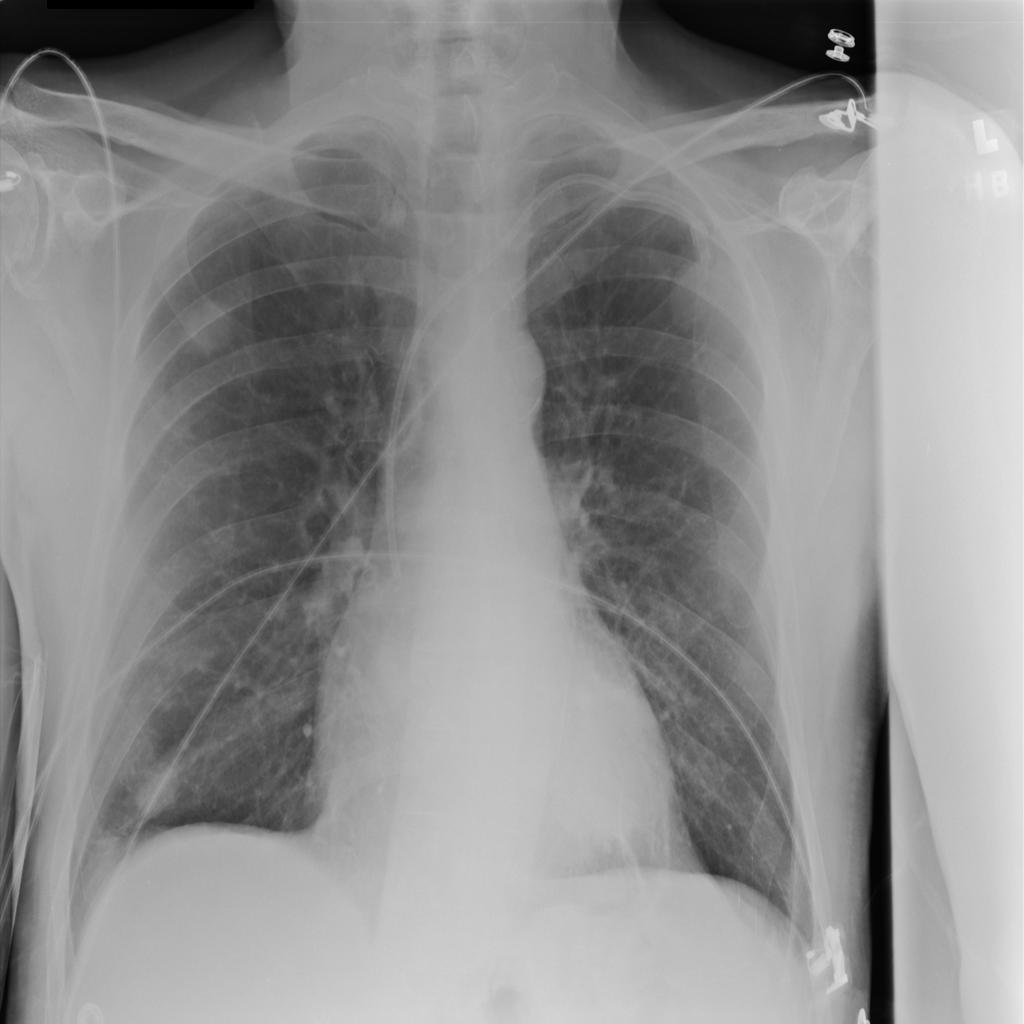nodule: (169, 284, 250, 366), (120, 752, 191, 828), (76, 815, 146, 891), (190, 500, 259, 576)
